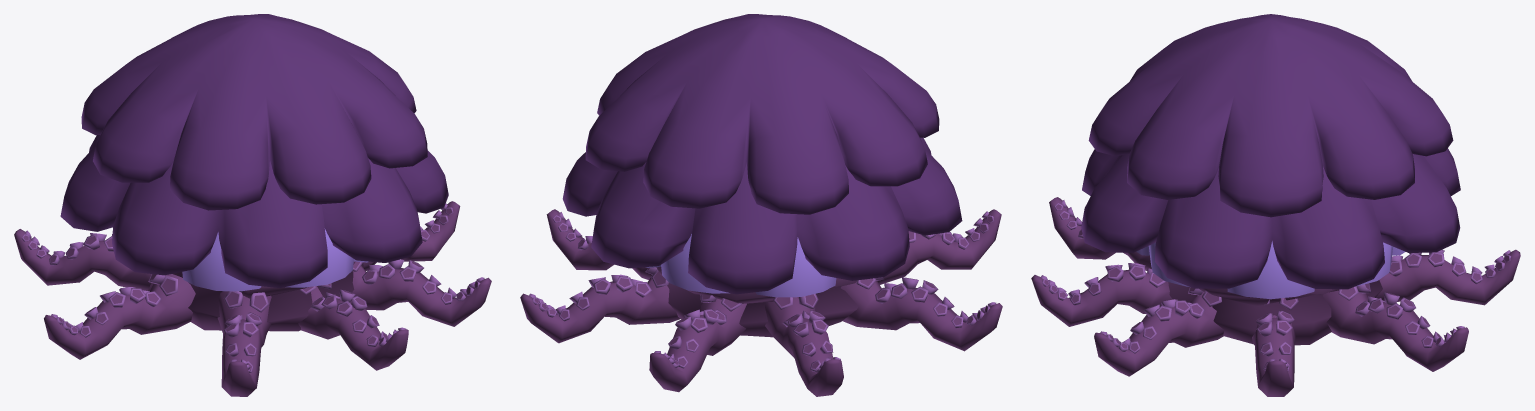
The model's file is Tree-Octopus-no3.gltf.
3 views of the same model, side by side, from view 1: azimuth 30°, elevation 25°; view 2: azimuth 150°, elevation 25°; view 3: azimuth 270°, elevation 25° (orthographic). The views are drawn at different scales.
Parts seen in each view (by area): view 1: Tree-Octopus-no1; view 2: Tree-Octopus-no1; view 3: Tree-Octopus-no1.
Boxes of the visible parts, <box> form: Tree-Octopus-no1: <box>14,14,491,396</box>; Tree-Octopus-no1: <box>520,14,1002,396</box>; Tree-Octopus-no1: <box>1031,14,1520,396</box>.
Size of the model in its own units: 2.87 by 1.83 by 2.79.
1 material, 1 textured.
